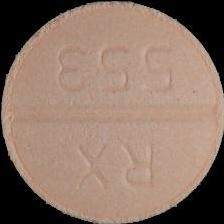63629-3858: (0, 0, 224, 224)
